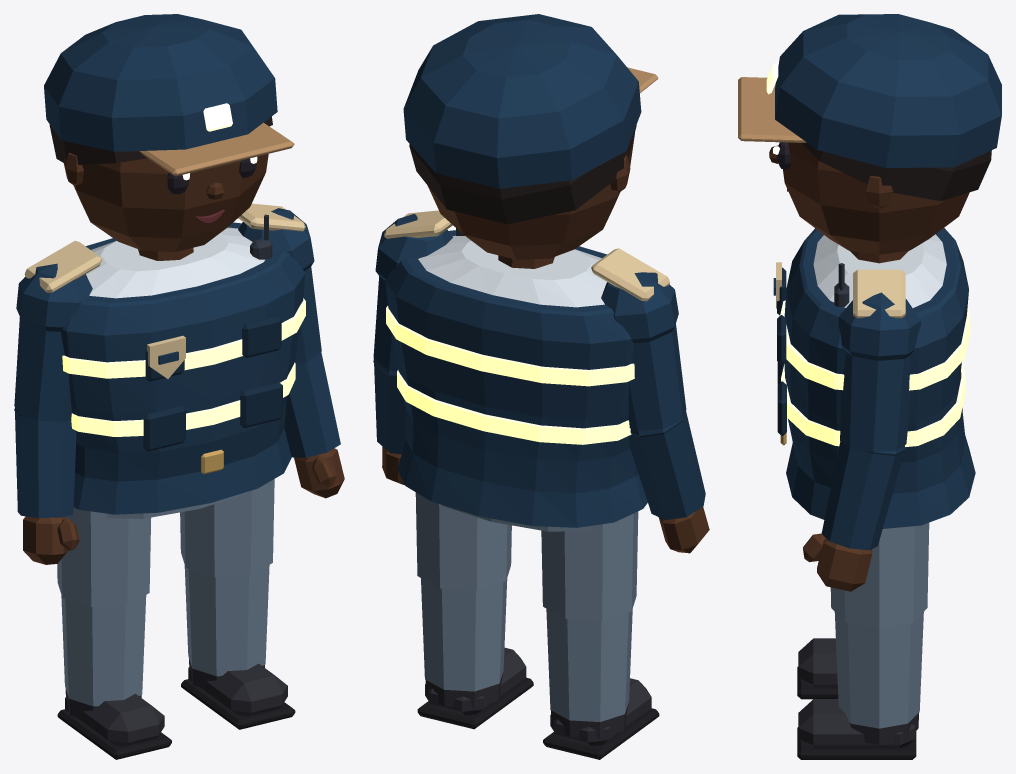
File: sic_rin.glb
3 views of the same model, side by side, from view 1: azimuth 30°, elevation 25°; view 2: azimuth 150°, elevation 25°; view 3: azimuth 270°, elevation 25° (orthographic).
Visible parts, largest first — view 1: jacke, kopfbedeckung, bein_r, bein_l, arm_r, kopf, arm_l, torso, signalstreifen, taschen, schuh_r, schuh_l (+7 smaller); view 2: jacke, kopfbedeckung, bein_r, bein_l, arm_r, signalstreifen, torso, haare, kopf, arm_l, schuh_l, schuh_r (+2 smaller); view 3: kopfbedeckung, jacke, arm_l, bein_l, kopf, schuh_l, signalstreifen, torso, haare, hand_l, schuh_r, schulterklappen (+3 smaller).
Boxes of the visible parts, x1,y1,x2,y2 form: jacke: (61, 222, 305, 514); kopfbedeckung: (44, 14, 294, 176); bein_r: (57, 507, 151, 706); bein_l: (180, 479, 274, 676); arm_r: (14, 263, 92, 517); kopf: (63, 152, 268, 251); arm_l: (238, 208, 340, 457); torso: (86, 227, 264, 298); signalstreifen: (62, 298, 305, 436); taschen: (143, 316, 282, 451); schuh_r: (57, 689, 171, 759); schuh_l: (181, 659, 295, 729); jacke: (385, 230, 647, 527); kopfbedeckung: (403, 14, 658, 188); bein_r: (541, 511, 638, 721); bein_l: (415, 492, 511, 691); arm_r: (601, 272, 705, 520); signalstreifen: (386, 306, 634, 444); torso: (418, 235, 606, 307); haare: (409, 125, 636, 224); kopf: (428, 133, 634, 259); arm_l: (373, 214, 452, 454); schuh_l: (417, 647, 533, 729); schuh_r: (543, 678, 659, 759); kopfbedeckung: (738, 14, 1001, 167); jacke: (784, 228, 975, 528); arm_l: (821, 292, 921, 550); bein_l: (830, 522, 929, 728); kopf: (783, 142, 969, 254); schuh_l: (797, 699, 919, 759); signalstreifen: (780, 300, 970, 446); torso: (813, 234, 946, 307); haare: (801, 142, 991, 201); hand_l: (803, 533, 872, 591); schuh_r: (797, 638, 838, 699); schulterklappen: (853, 269, 905, 318).
Size of the model in its own units: 0.0127 by 0.0259 by 0.00903.
